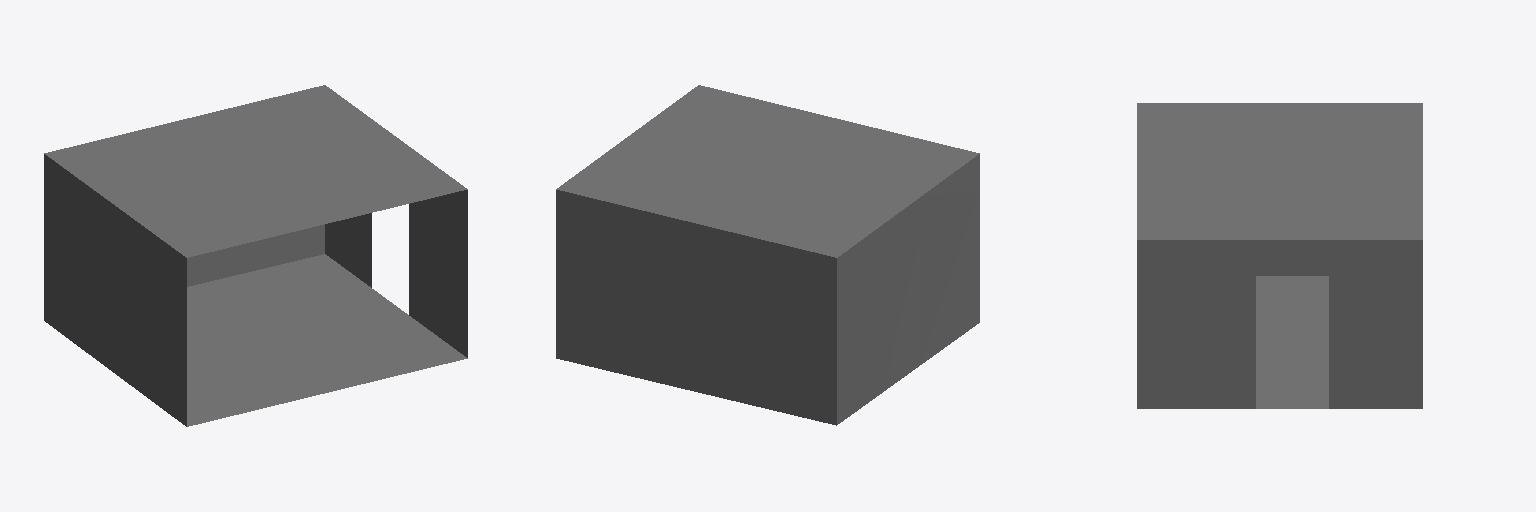
The model's file is room.obj.
3 renders of one model, left to right at view 1: azimuth 30°, elevation 25°; view 2: azimuth 150°, elevation 25°; view 3: azimuth 270°, elevation 25°, orthographic.
Visible parts, largest first — view 1: ROOM; view 2: ROOM; view 3: ROOM.
Boxes of the visible parts, box(x1,y1,x2,y2) form: ROOM: box(44, 85, 467, 426); ROOM: box(556, 85, 979, 425); ROOM: box(1137, 103, 1422, 408).
Size of the model in its own units: 19.37 by 11.13 by 17.04.